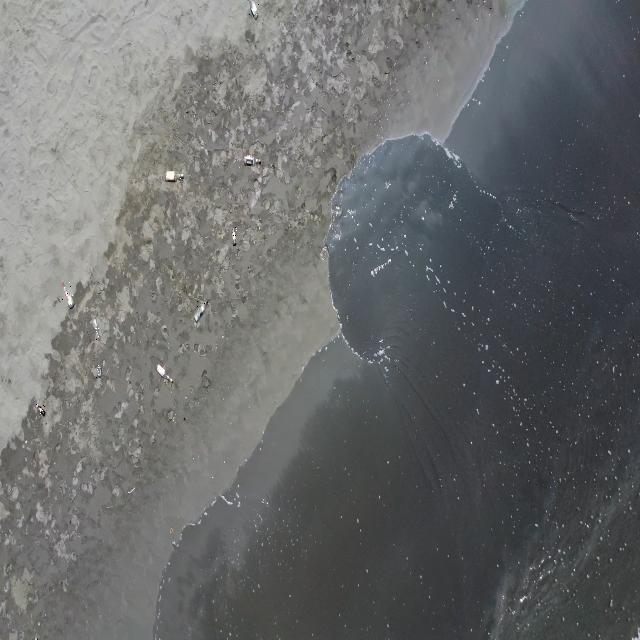glass: (61, 280, 75, 309), (194, 297, 209, 324), (155, 362, 173, 384), (164, 170, 184, 183), (244, 154, 262, 167), (248, 0, 259, 20), (92, 315, 100, 340), (230, 226, 237, 247), (36, 403, 46, 417), (96, 365, 103, 379)
